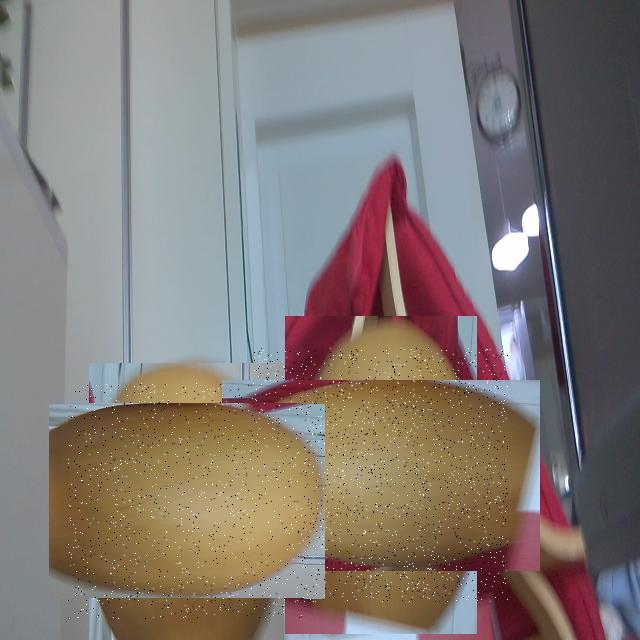pear: (254, 348, 508, 602), (68, 383, 304, 620)
